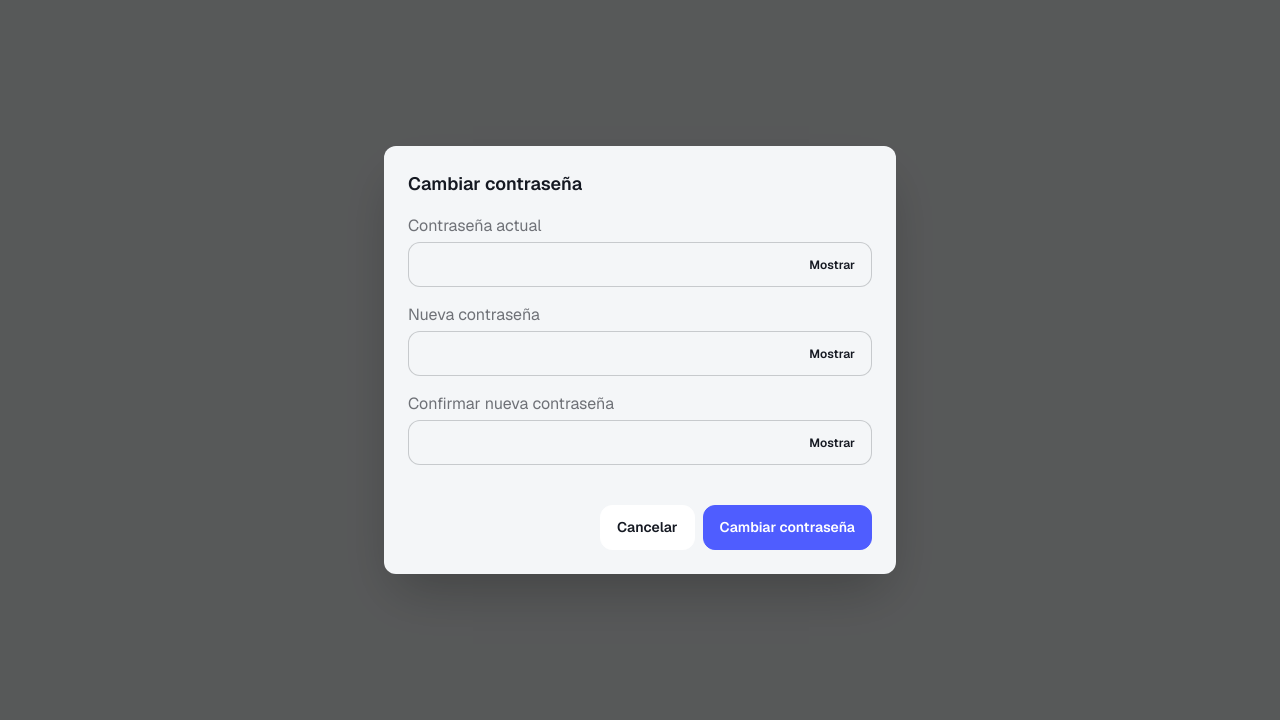
Scenario: ChangePasswordDialog › avisa si la contraseña actual es incorrecta sin cerrar sesión (RF-13)
This screenshot has width=1280, height=720.
Type "actual8" into the password field labelled "Contraseña actual" at (640, 264), box [408, 242, 872, 287]
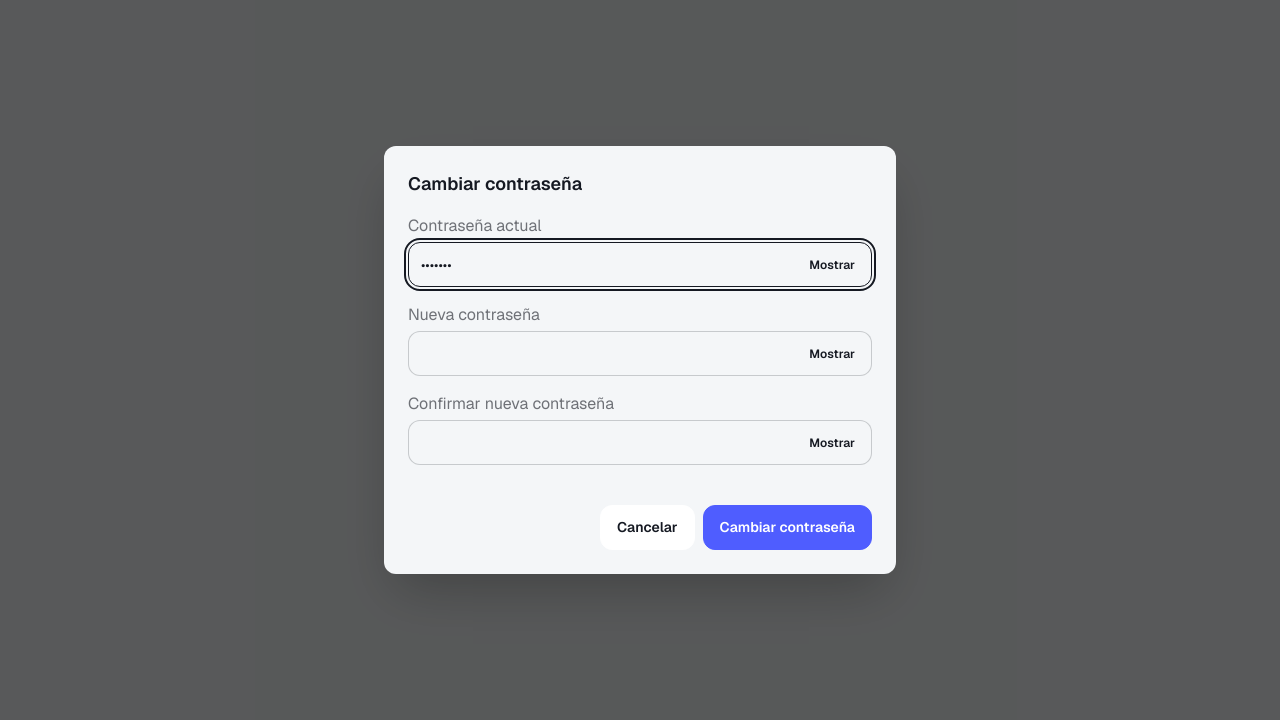
Type "nueva123" into the password field labelled "Nueva contraseña" at (640, 354), box [408, 331, 872, 376]
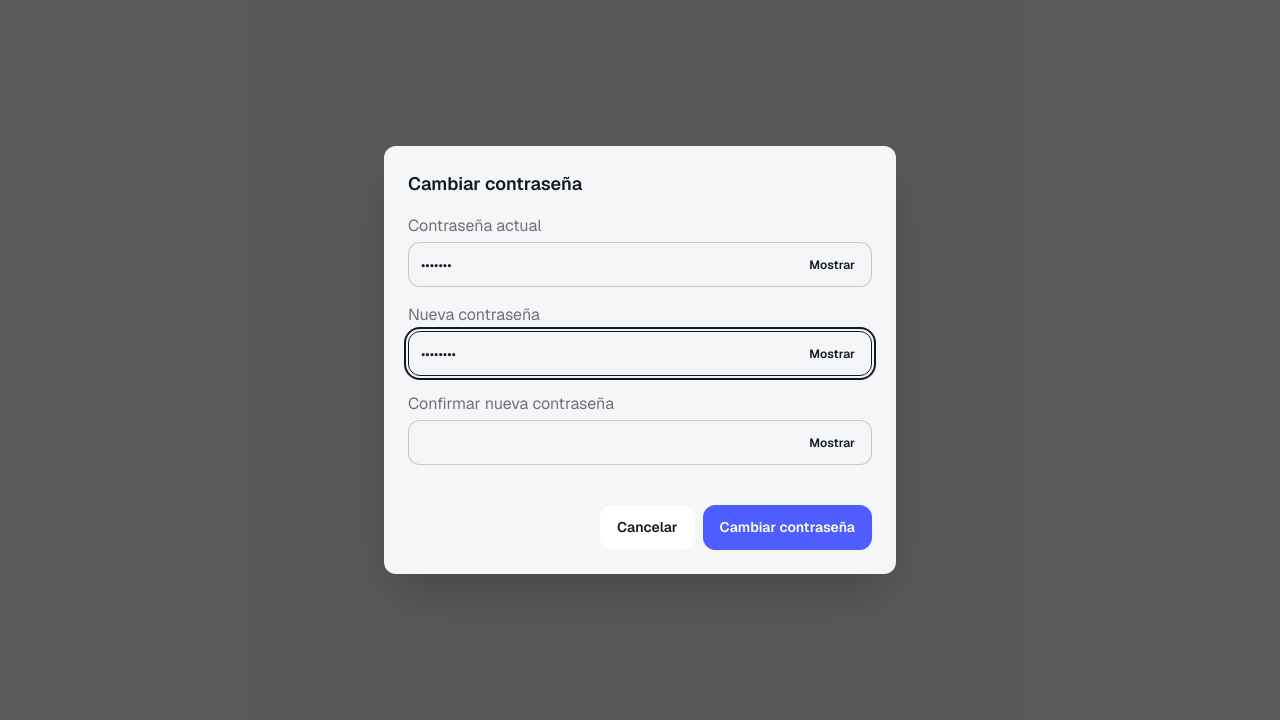
Type "nueva123" into the password field labelled "Confirmar nueva contraseña" at (640, 442), box [408, 420, 872, 465]
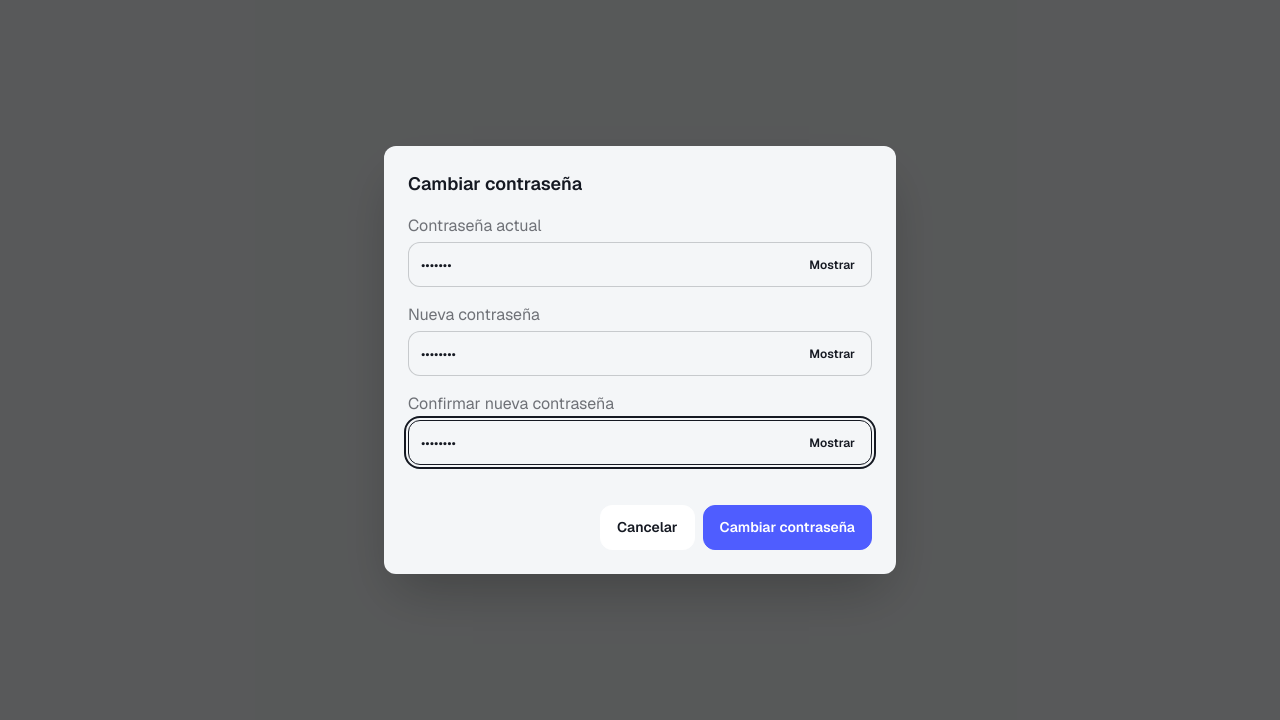
Click the button "Cambiar contraseña" at (787, 528), box [703, 505, 872, 550]
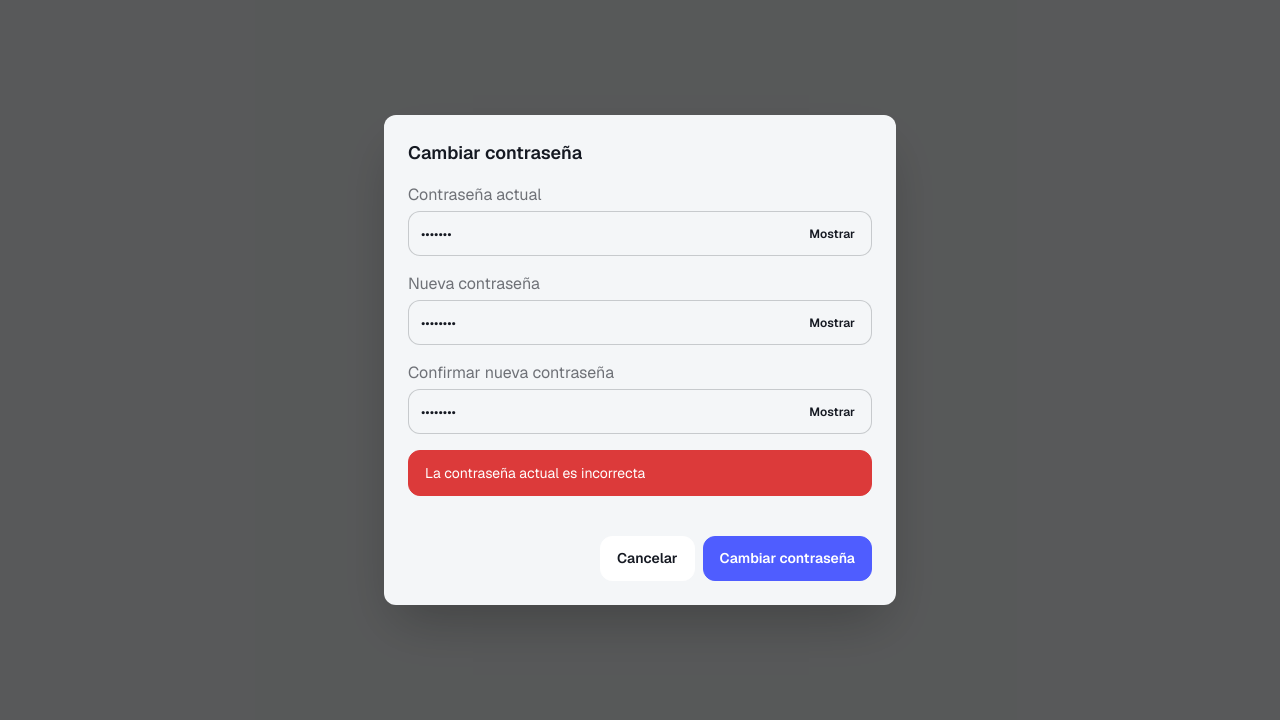
Expected: the text "La contraseña actual es incorrecta" is shown, [408, 450, 872, 496]
